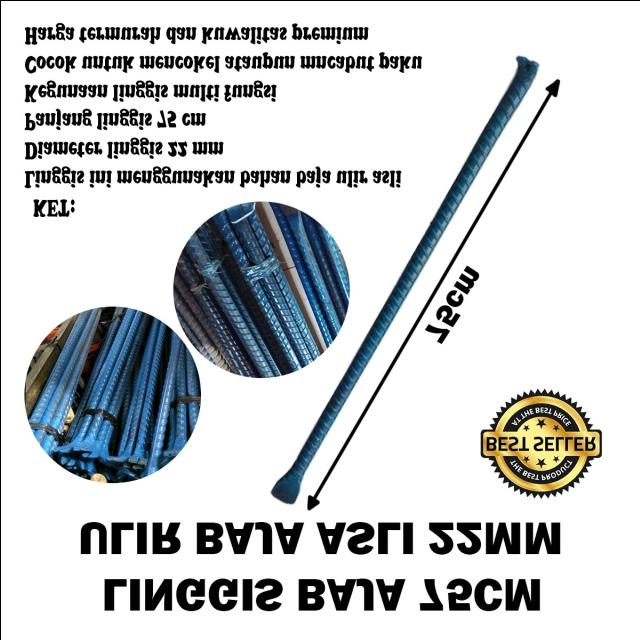Linggis: (269, 54, 541, 508)
